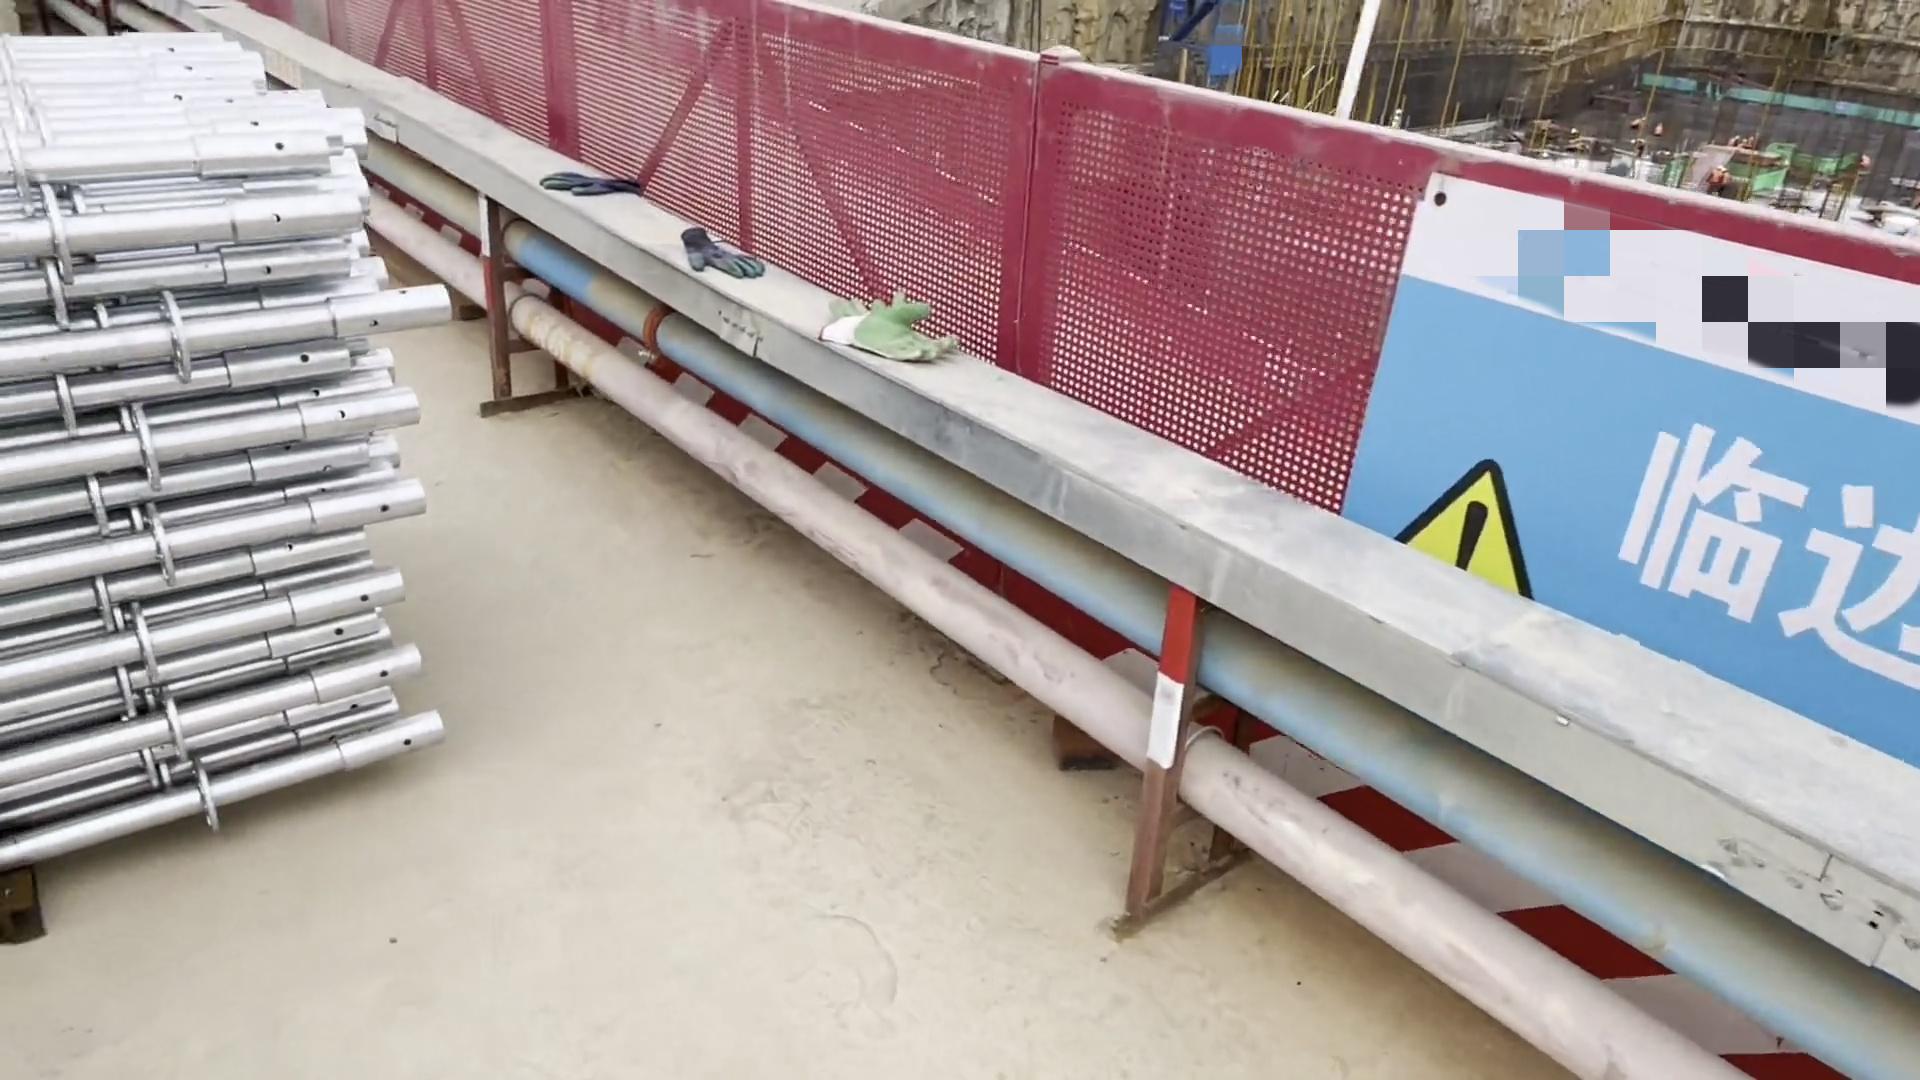fence: (538, 1, 1042, 375), (1046, 63, 1383, 529), (307, 1, 553, 135)
scaffold: (1, 30, 402, 909)
slogan: (1433, 276, 1920, 735)
